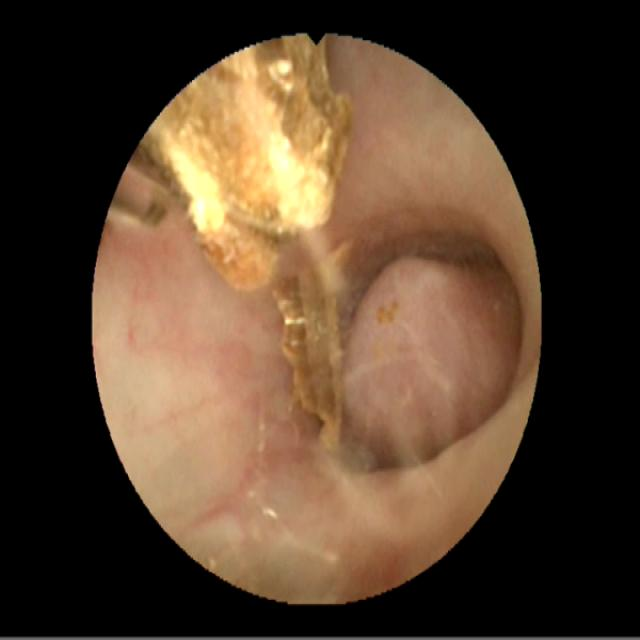stone: (143, 40, 347, 292), (275, 246, 350, 450)
tissue: (101, 48, 529, 593)
